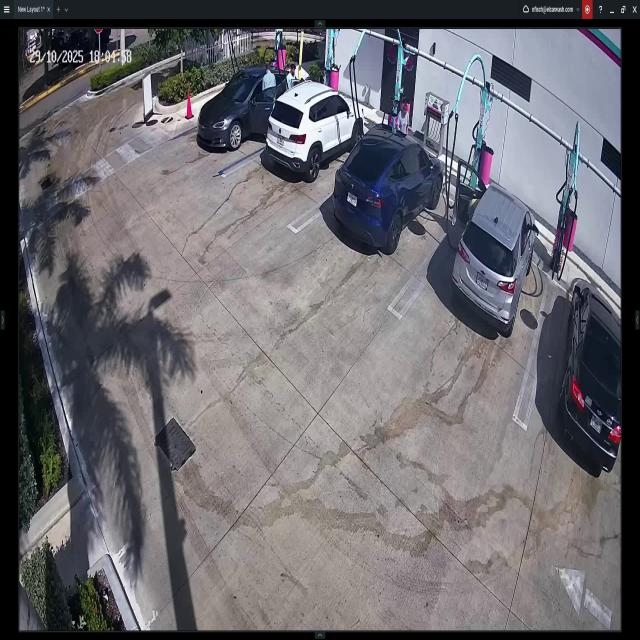Car: (450, 157, 529, 331), (335, 122, 443, 249), (560, 271, 618, 475), (263, 77, 365, 181), (199, 66, 295, 153)
